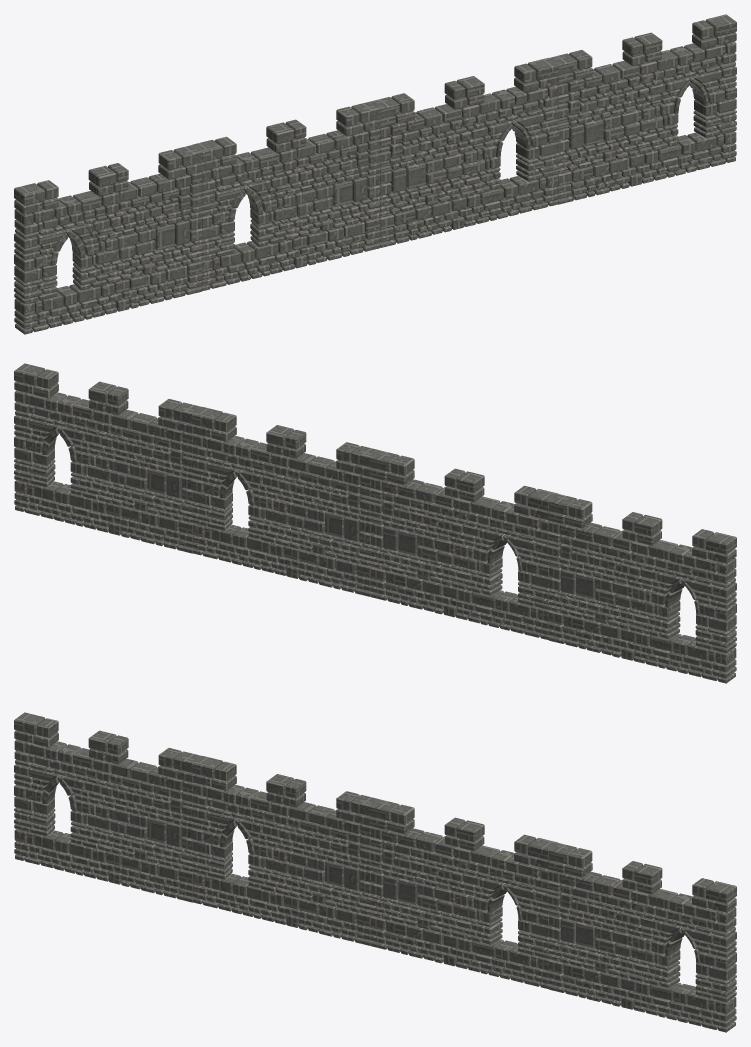
File: CastleBigWindow.fbx
3 renders of one model, top to bottom at view 1: azimuth 30°, elevation 25°; view 2: azimuth 150°, elevation 25°; view 3: azimuth 330°, elevation 25°, orthographic.
Parts seen in each view (by area): view 1: WallBig; view 2: WallBig; view 3: WallBig.
Part boxes in pixels (box(x1,y1,x2,y2)): WallBig: box(14, 14, 736, 334); WallBig: box(14, 363, 736, 683); WallBig: box(14, 712, 736, 1032).
Bounding box in the file's own units: 7940 × 1489 × 210.
1 material, 1 textured.
